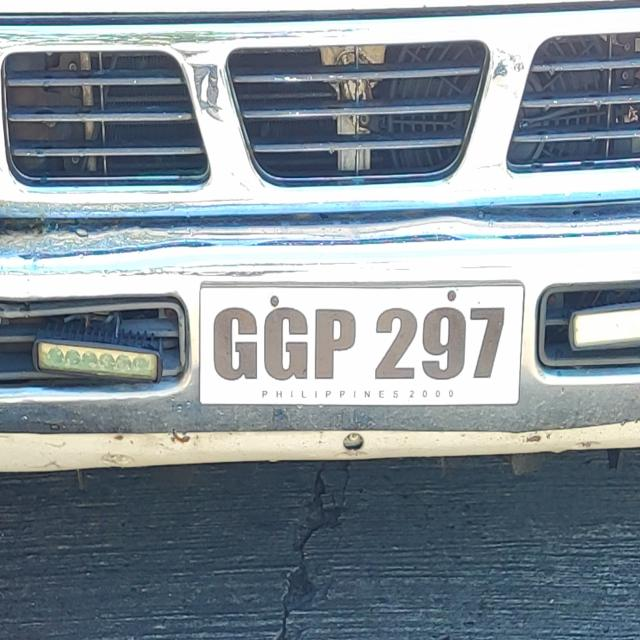plate: (196, 276, 526, 409)
